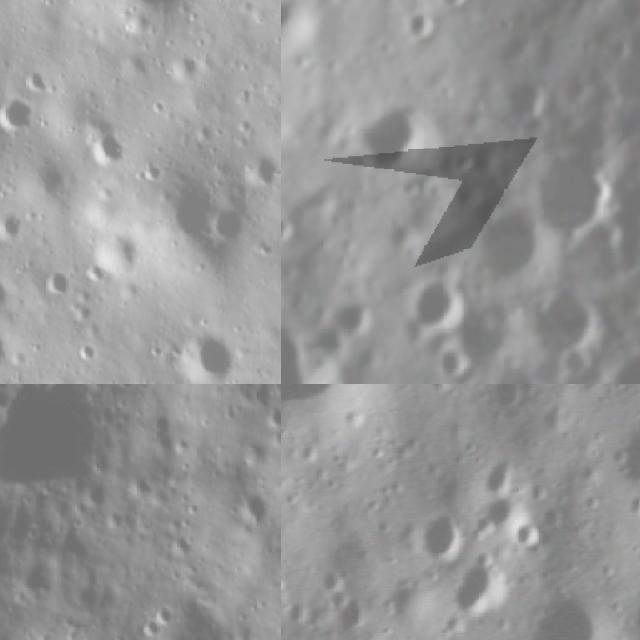crater: (0, 384, 109, 500), (529, 149, 621, 249), (471, 195, 557, 296), (521, 275, 609, 367), (355, 95, 443, 179), (393, 259, 472, 347), (146, 594, 240, 640), (531, 593, 597, 640), (178, 329, 233, 383), (417, 512, 463, 567), (334, 284, 376, 344), (428, 340, 484, 384), (8, 558, 59, 606), (459, 556, 499, 614), (281, 0, 326, 50), (232, 481, 273, 535), (509, 501, 551, 553), (395, 7, 447, 48), (588, 346, 640, 384), (87, 237, 133, 278), (0, 94, 30, 138), (208, 203, 242, 240), (90, 133, 127, 166), (486, 384, 528, 412), (0, 496, 19, 550), (41, 259, 67, 296), (0, 214, 26, 243), (265, 398, 281, 430), (435, 0, 480, 11), (0, 281, 17, 308), (268, 423, 281, 452)
